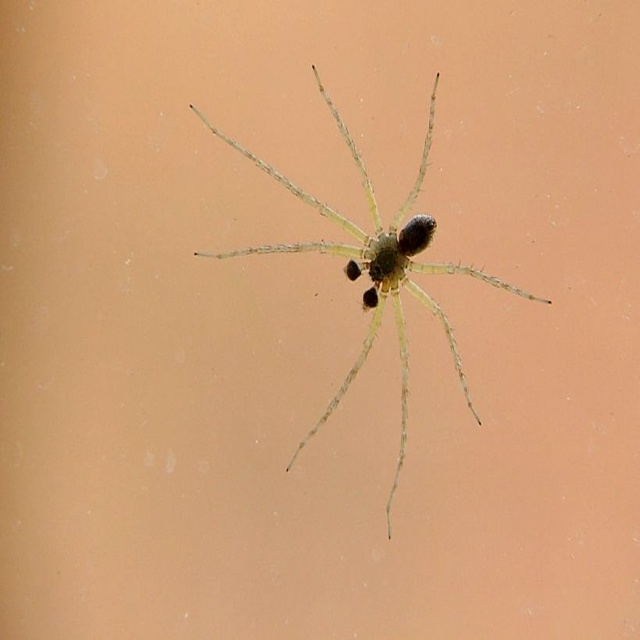Spider: (189, 64, 552, 539)
